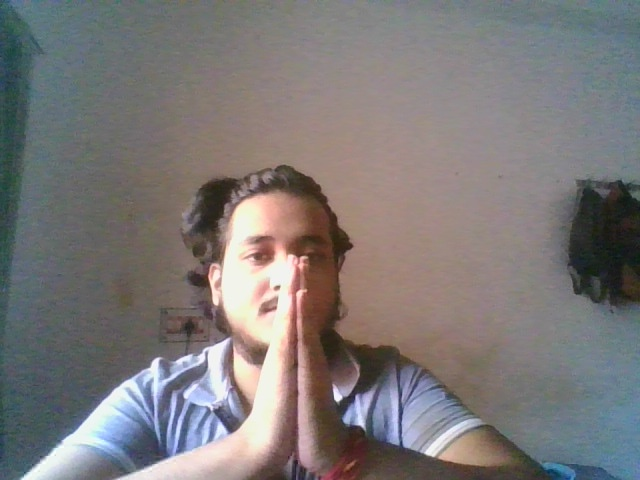ThankYou: (259, 253, 339, 480)
